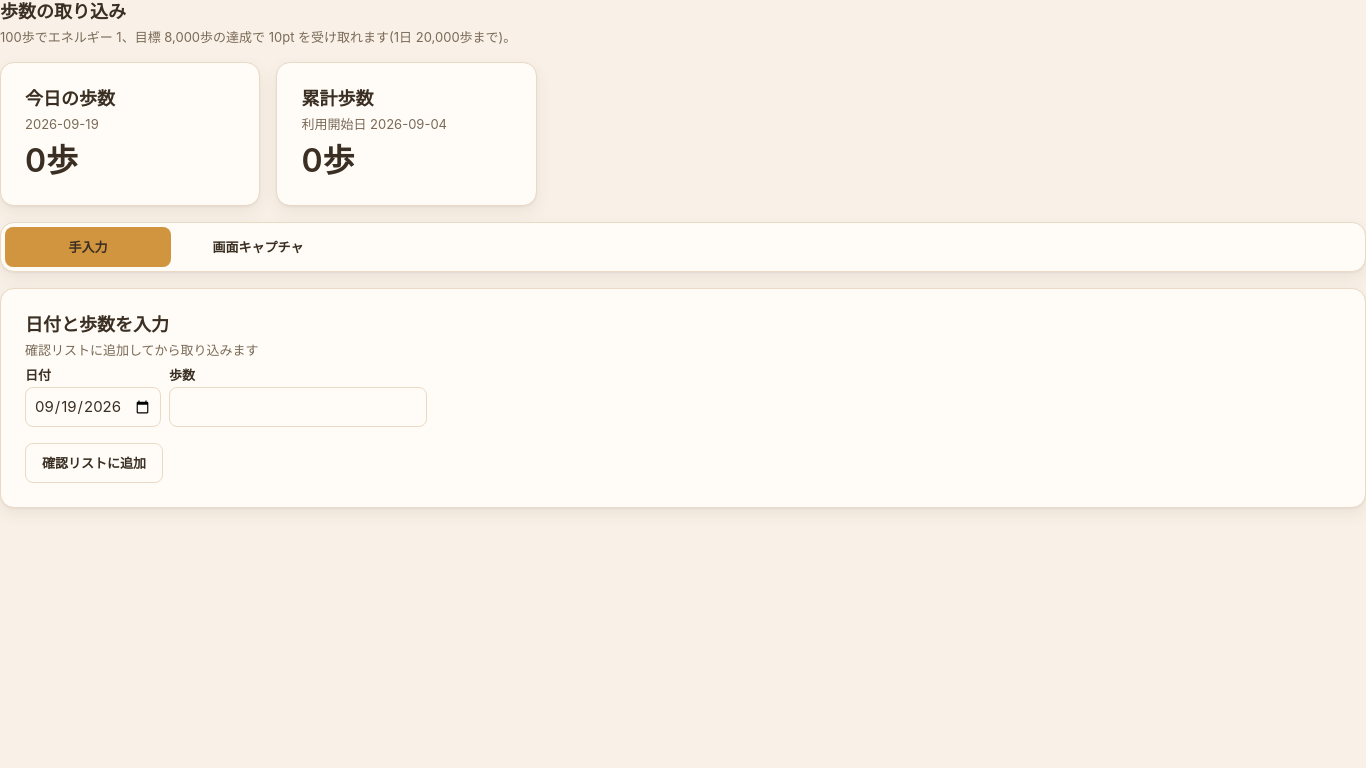
Test: StepImportPage › 利用開始日より前の日は、取り込まれないことを知らせる
In the date field labelled "日付": (93, 407) left=25, top=387, right=161, bottom=427, type "2026-09-01"
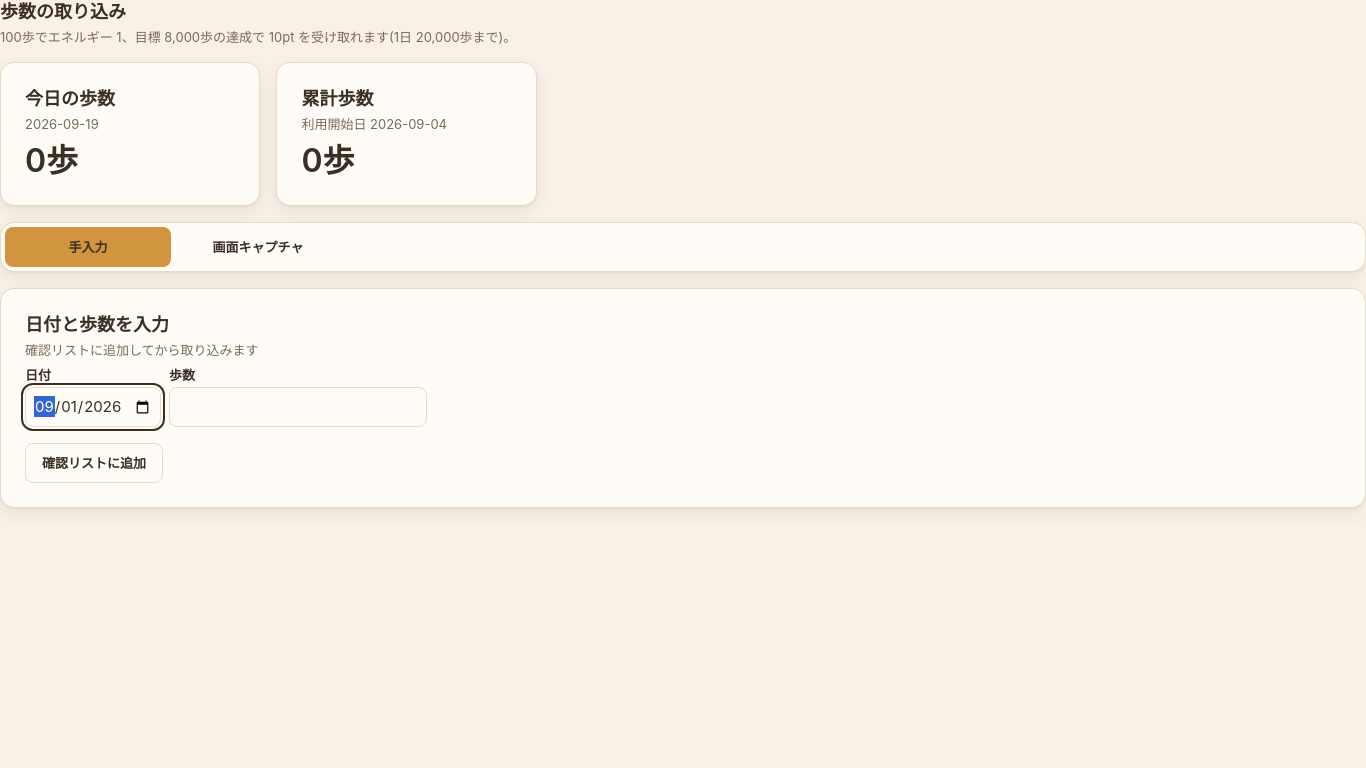
In the field labelled "歩数": (298, 407) left=169, top=387, right=427, bottom=427, type "9000"
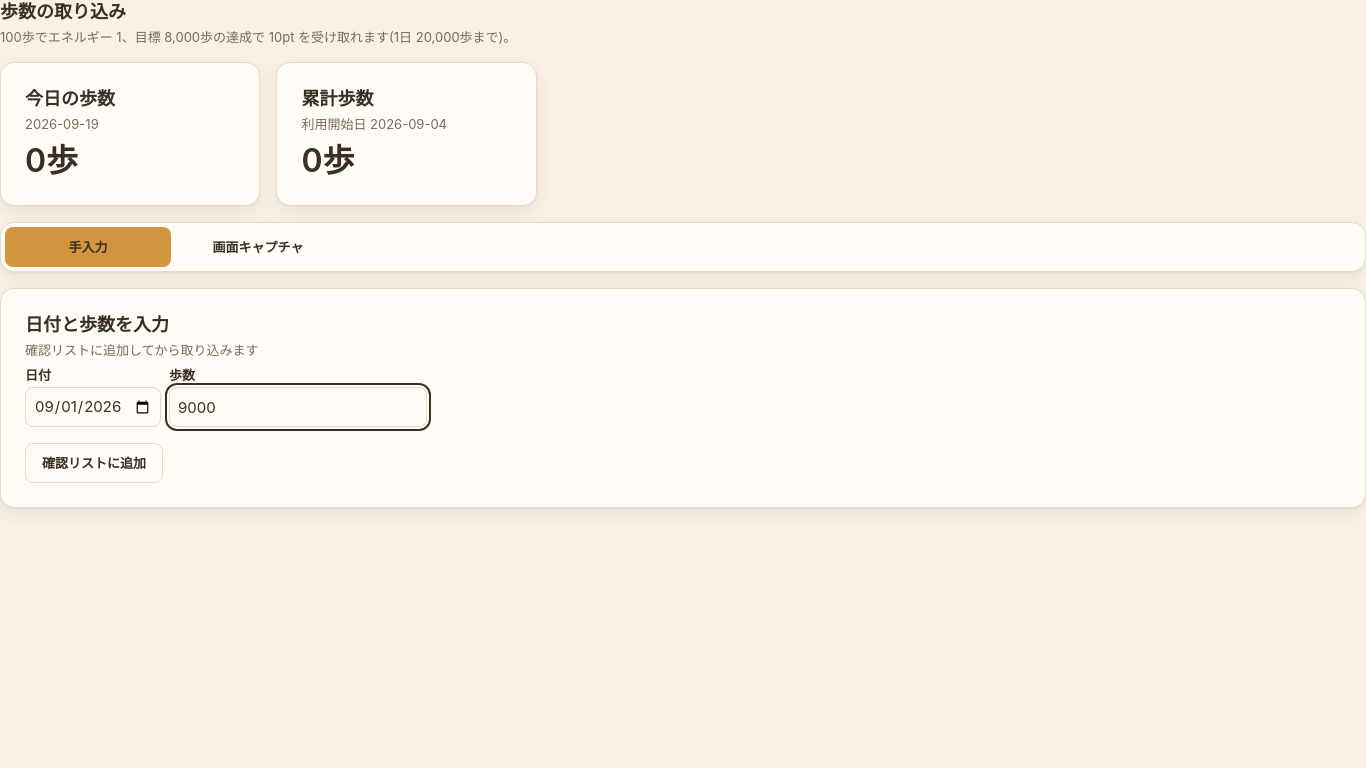
Click the button "確認リストに追加": (94, 463) left=25, top=443, right=163, bottom=483
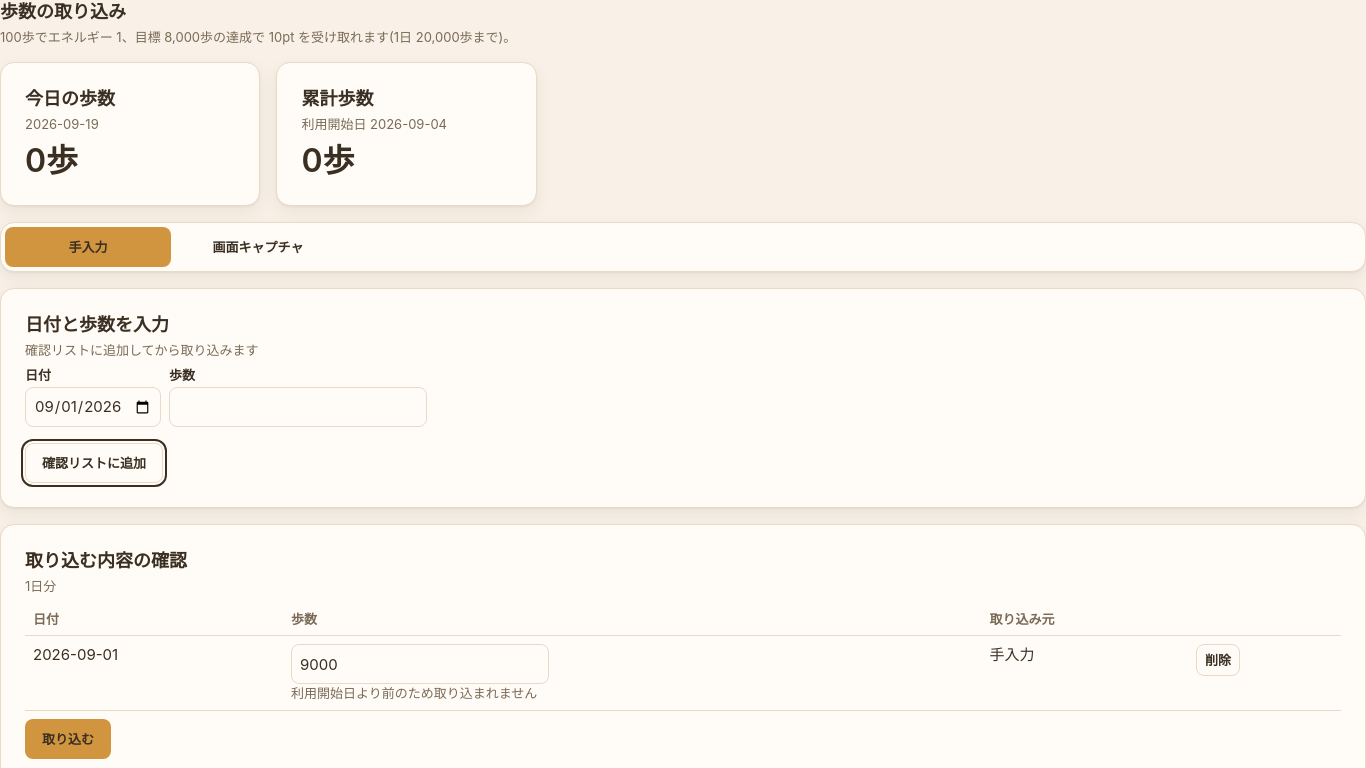
Expected: the text "利用開始日より前のため取り込まれません" is shown, left=291, top=685, right=537, bottom=701
